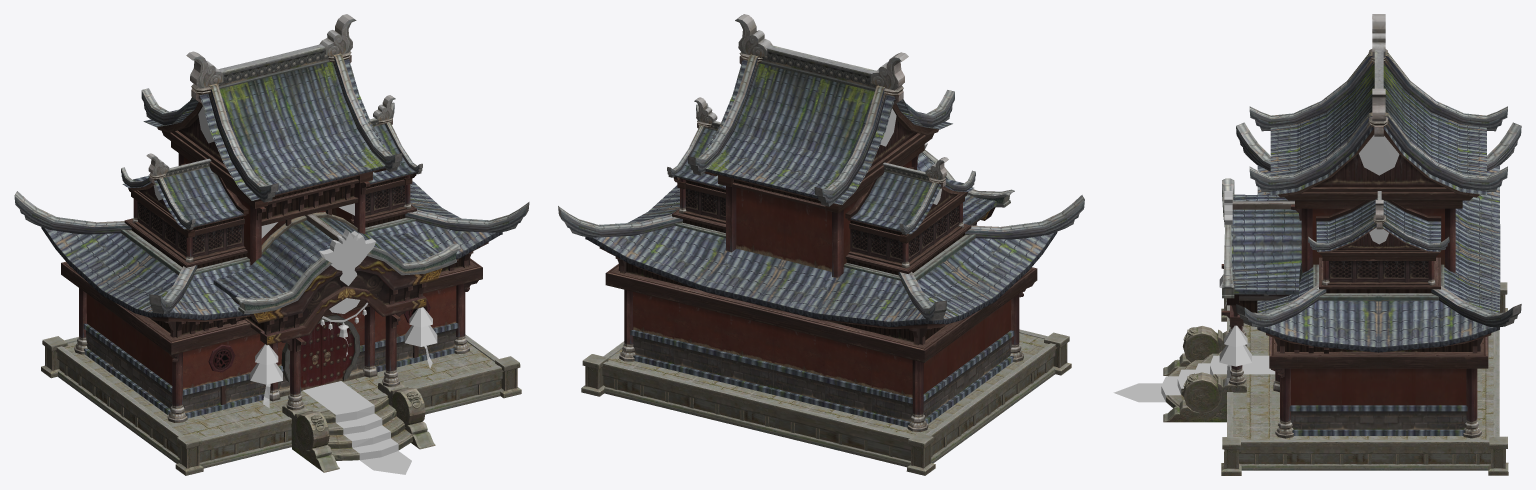
File: build_02_03.FBX
3 views of the same model, side by side, from view 1: azimuth 30°, elevation 25°; view 2: azimuth 150°, elevation 25°; view 3: azimuth 270°, elevation 25° (orthographic). The views are drawn at different scales.
Visible parts, largest first — view 1: segment_16, segment_18, segment_17; view 2: segment_16, segment_18; view 3: segment_16, segment_18, segment_17.
Boxes of the visible parts, bbox=[...] form: segment_16: bbox=[14, 14, 529, 422]; segment_18: bbox=[41, 334, 521, 475]; segment_17: bbox=[153, 106, 437, 474]; segment_16: bbox=[558, 14, 1084, 432]; segment_18: bbox=[581, 329, 1071, 475]; segment_16: bbox=[1221, 14, 1521, 438]; segment_18: bbox=[1163, 282, 1508, 475]; segment_17: bbox=[1113, 135, 1399, 402].
Size of the model in its own units: 430 by 372 by 401.
